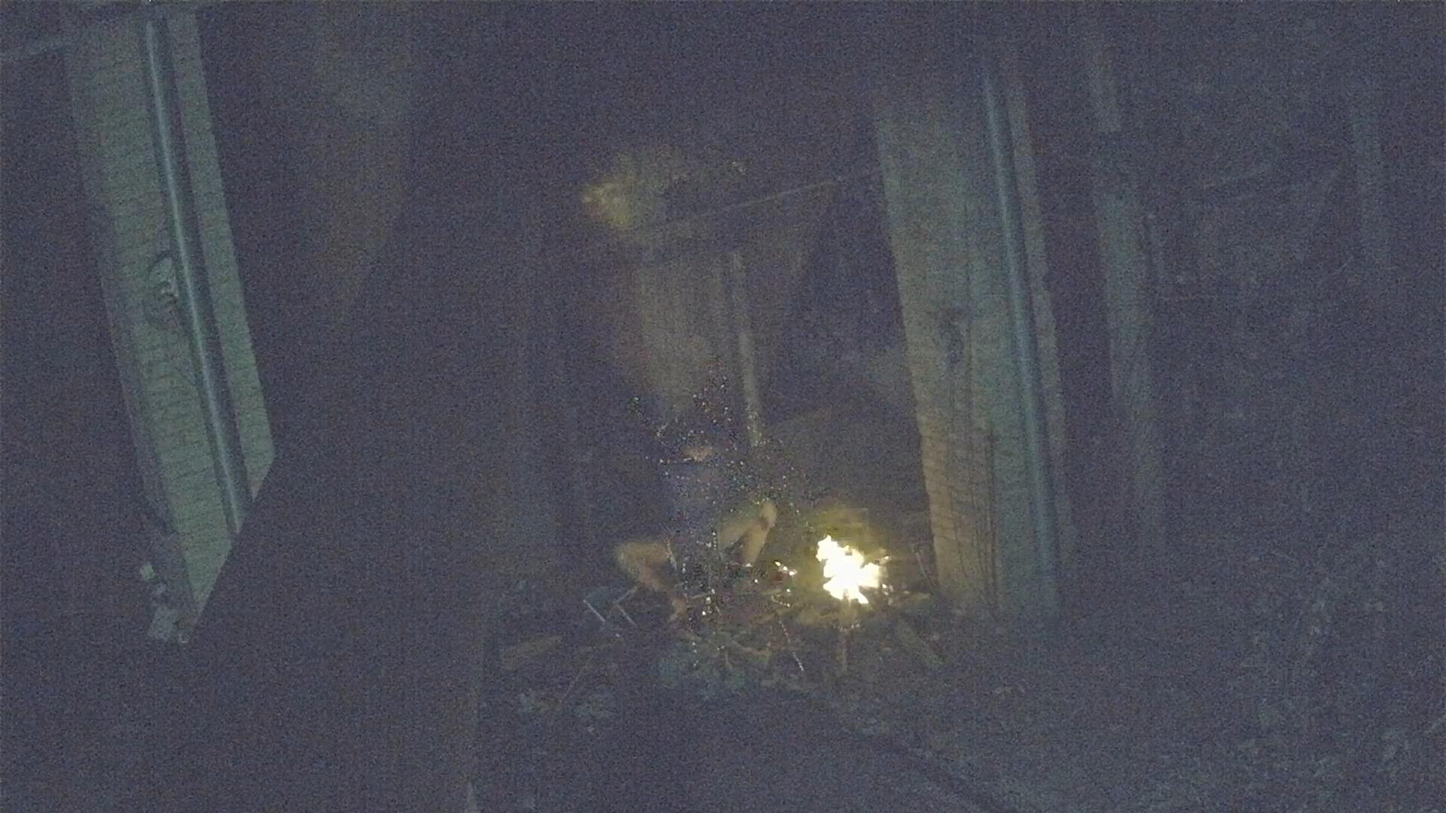fire: (816, 535, 882, 611)
